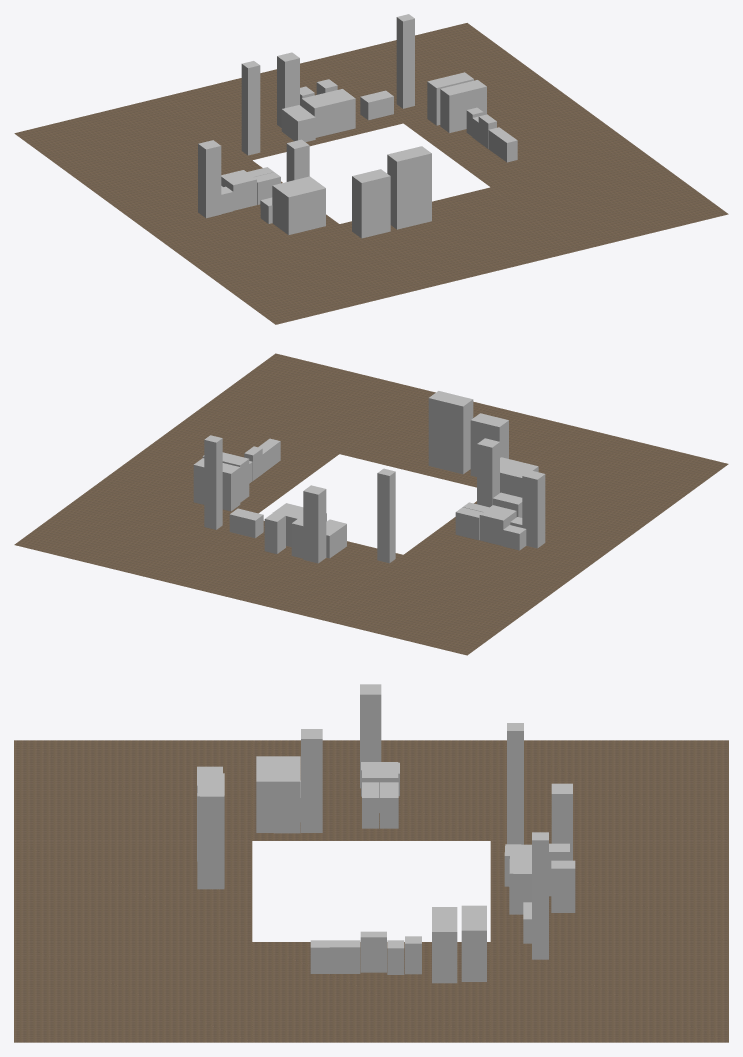
3 renders of one model, top to bottom at view 1: azimuth 30°, elevation 25°; view 2: azimuth 150°, elevation 25°; view 3: azimuth 270°, elevation 25°, orthographic. The views are drawn at different scales.
Parts seen in each view (by area): view 1: Ground.002, Building.023, Building.015, Building.021, Building.005, Building.024, Building.022, Building.009, Building.017, Building.014, Building.025, Building.006 (+5 smaller); view 2: Ground.002, Building.023, Building.014, Building.017, Building.024, Building.009, Building.004, Building.020, Building.021, Building.006, Building.015, Building.011 (+8 smaller); view 3: Ground.002, Building.015, Building.023, Building.004, Building.017, Building.024, Building.020, Building.022, Building.009, Building.016, Building.005, Building.014 (+7 smaller).
Part boxes in pixels (x1,y1,x2,y2): Ground.002: (14,23,728,324); Building.023: (387,146,431,229); Building.015: (272,176,325,234); Building.021: (352,169,390,238); Building.005: (301,89,355,137); Building.024: (241,61,260,155); Building.022: (440,80,486,132); Building.009: (198,140,221,218); Building.017: (396,14,414,108); Building.014: (277,52,299,127); Building.025: (281,105,315,142); Building.006: (221,170,256,210); Ground.002: (14,353,728,655); Building.023: (428,391,473,474); Building.014: (303,485,326,563); Building.017: (204,435,222,529); Building.024: (377,468,395,563); Building.009: (522,470,545,548); Building.004: (477,438,499,507); Building.020: (193,458,240,511); Building.021: (470,413,508,476); Building.006: (479,505,516,545); Building.015: (500,457,538,497); Building.011: (229,508,263,538); Ground.002: (14,740,728,1042); Building.015: (256,756,300,833); Building.023: (197,773,224,889); Building.004: (301,729,322,832); Building.017: (532,832,548,959); Building.024: (507,723,523,844); Building.020: (461,905,486,981); Building.022: (432,907,457,983); Building.009: (360,684,381,788); Building.016: (310,940,360,973); Building.005: (509,846,531,914); Building.014: (551,783,572,860).
Size of the model in its own units: 420 by 78.69 by 420.
